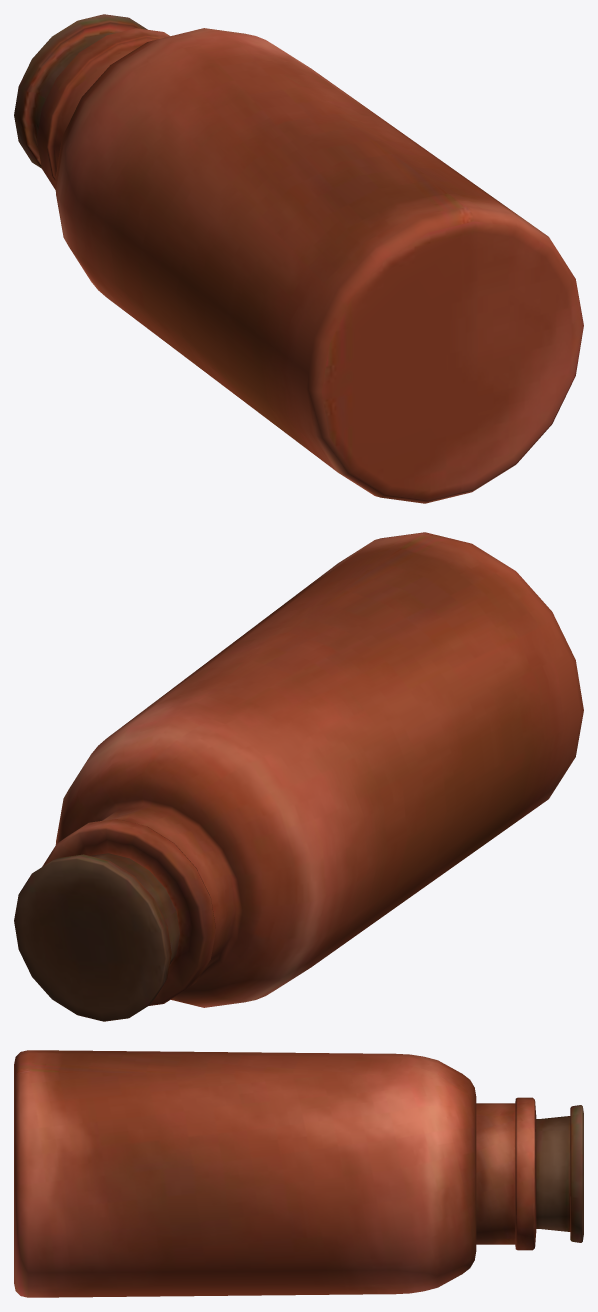
The model's file is Botella 4 Fin.FBX.
3 views of the same model, one above another, from view 1: azimuth 30°, elevation 25°; view 2: azimuth 150°, elevation 25°; view 3: azimuth 270°, elevation 25° (orthographic). The views are drawn at different scales.
Parts seen in each view (by area): view 1: Botella4; view 2: Botella4; view 3: Botella4.
Boxes of the visible parts, x1,y1,x2,y2 form: Botella4: (14,14,583,503); Botella4: (14,532,583,1021); Botella4: (14,1050,583,1297).
Size of the model in its own units: 4.84 by 4.77 by 11.1.
Materials: 1 (1 with a texture image).
